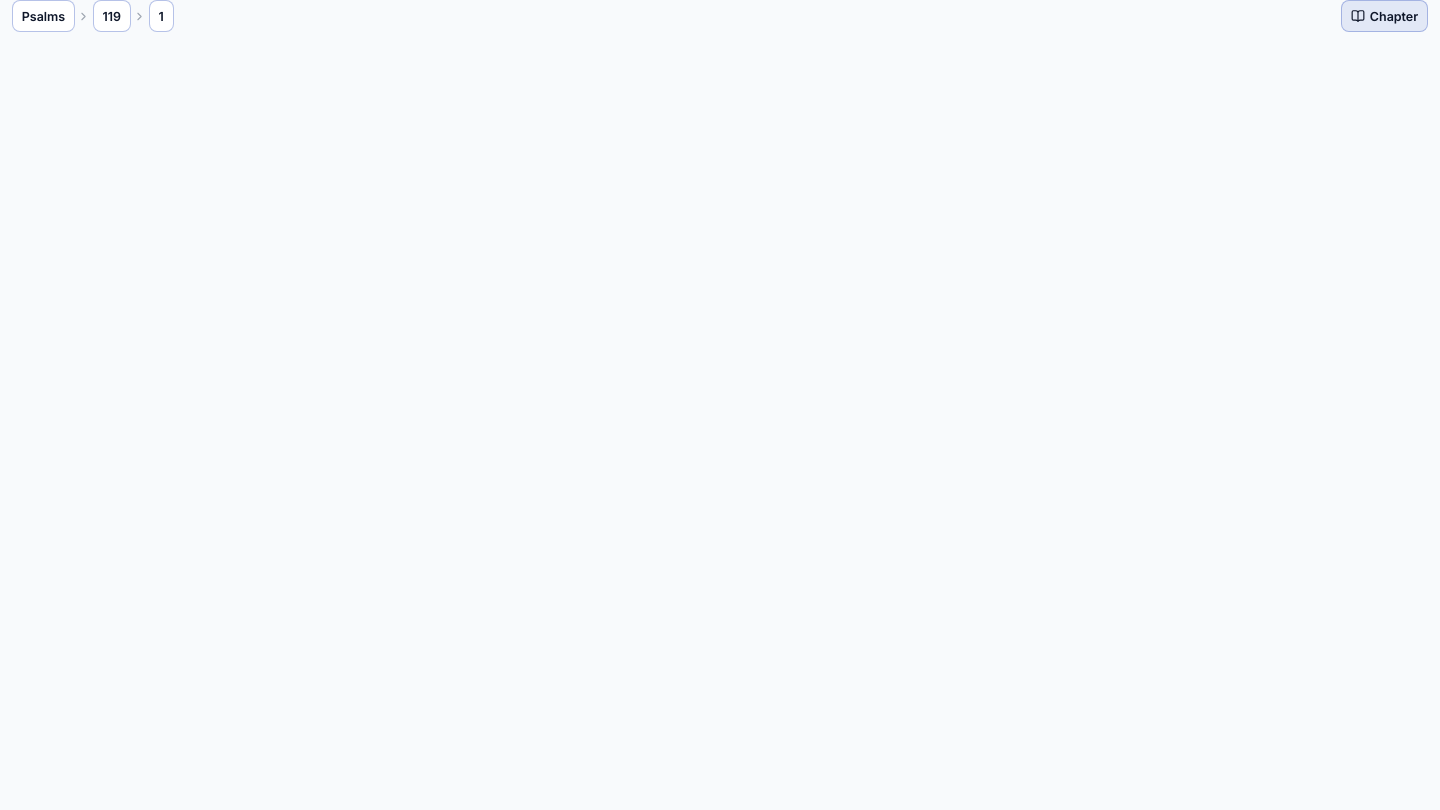
Test: ScriptureNavigator › sizes the verse grid for the longest chapter in the Bible
Click the button named "Verse 1": (161, 16) 149,0 -> 174,32
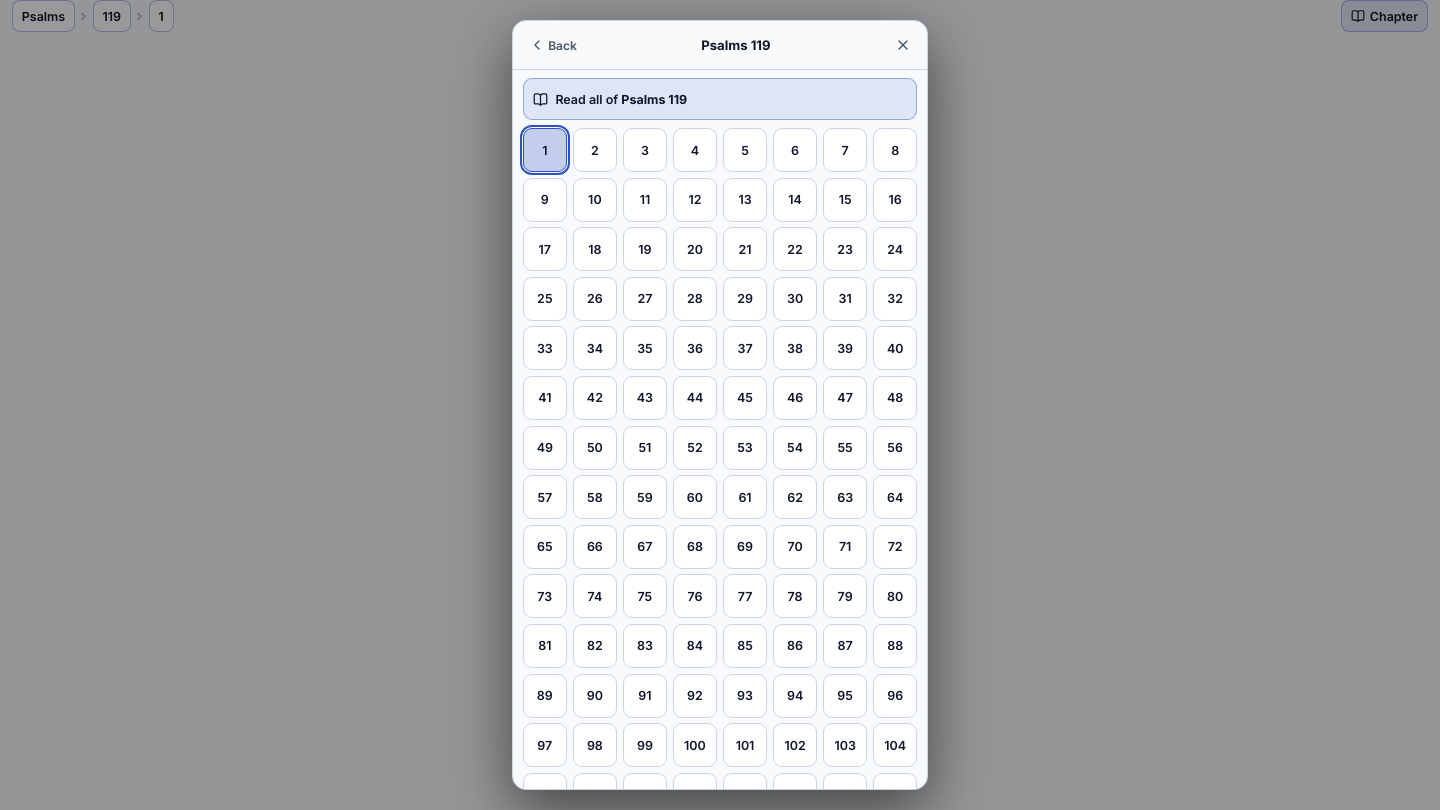
Now the number of buttons "1" is 176
